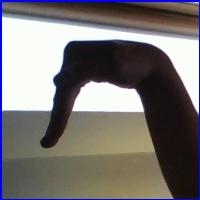A: (39, 37, 182, 172)
